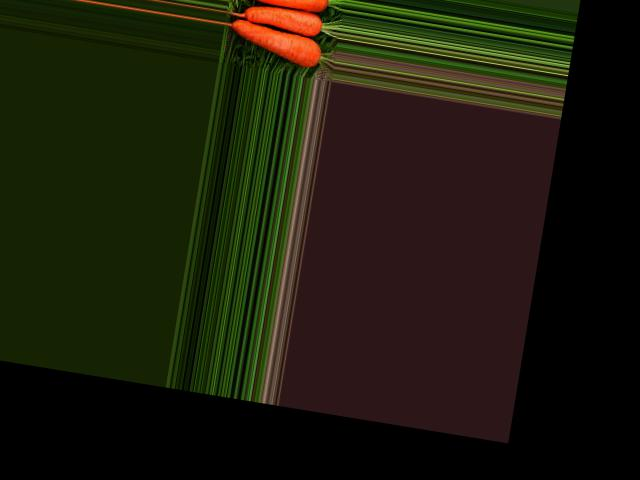carrot: (226, 17, 325, 70)
